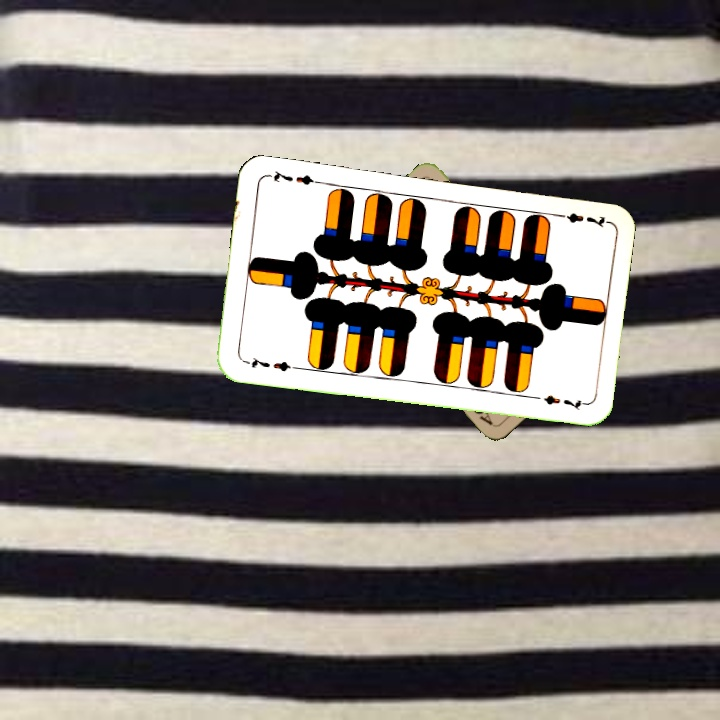E7: (240, 353, 299, 374), (551, 209, 610, 230)
